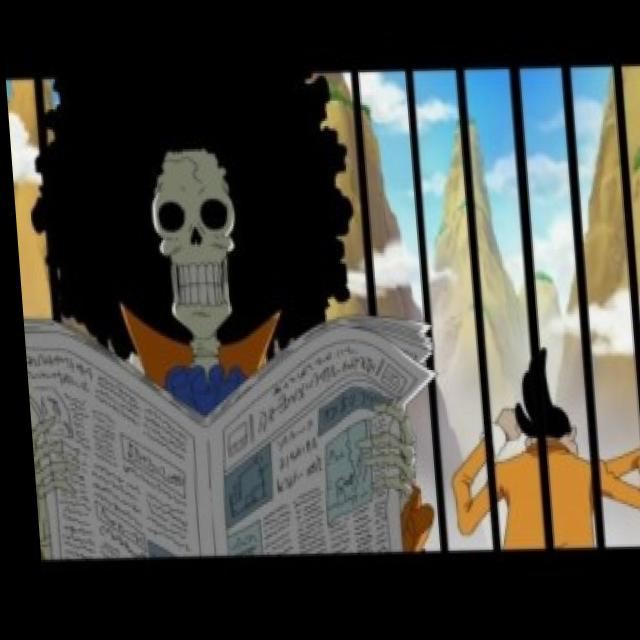Blook: (25, 56, 341, 351)
